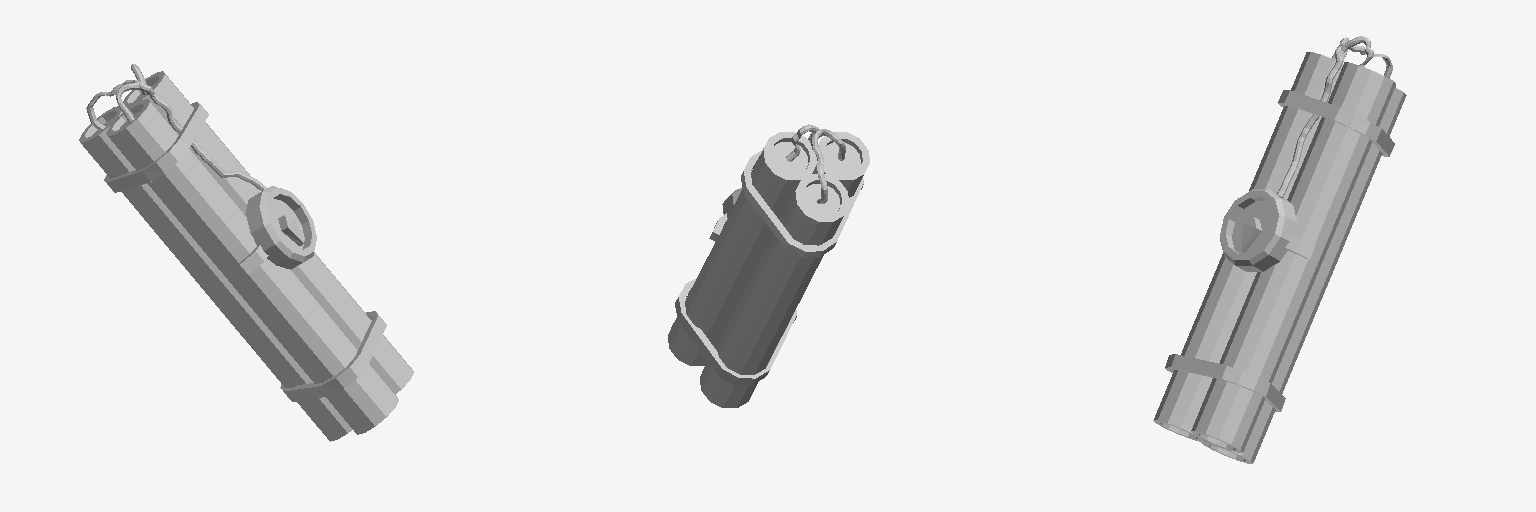
The model's file is tnt.obj.
3 views of the same model, side by side, from view 1: azimuth 30°, elevation 25°; view 2: azimuth 150°, elevation 25°; view 3: azimuth 270°, elevation 25° (orthographic).
Visible parts, largest first — view 1: mesh[number redacted]; view 2: mesh[number redacted]; view 3: mesh[number redacted].
Boxes of the visible parts, x1=… form: mesh[number redacted]: x1=79, y1=64, x2=413, y2=441; mesh[number redacted]: x1=668, y1=124, x2=869, y2=407; mesh[number redacted]: x1=1153, y1=36, x2=1406, y2=463.
Size of the model in its own units: 1.28 by 1.75 by 1.12.